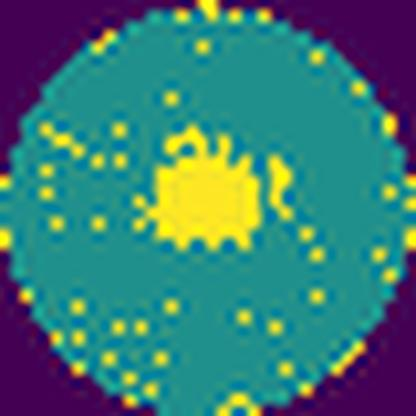Center: (143, 127, 266, 254)
